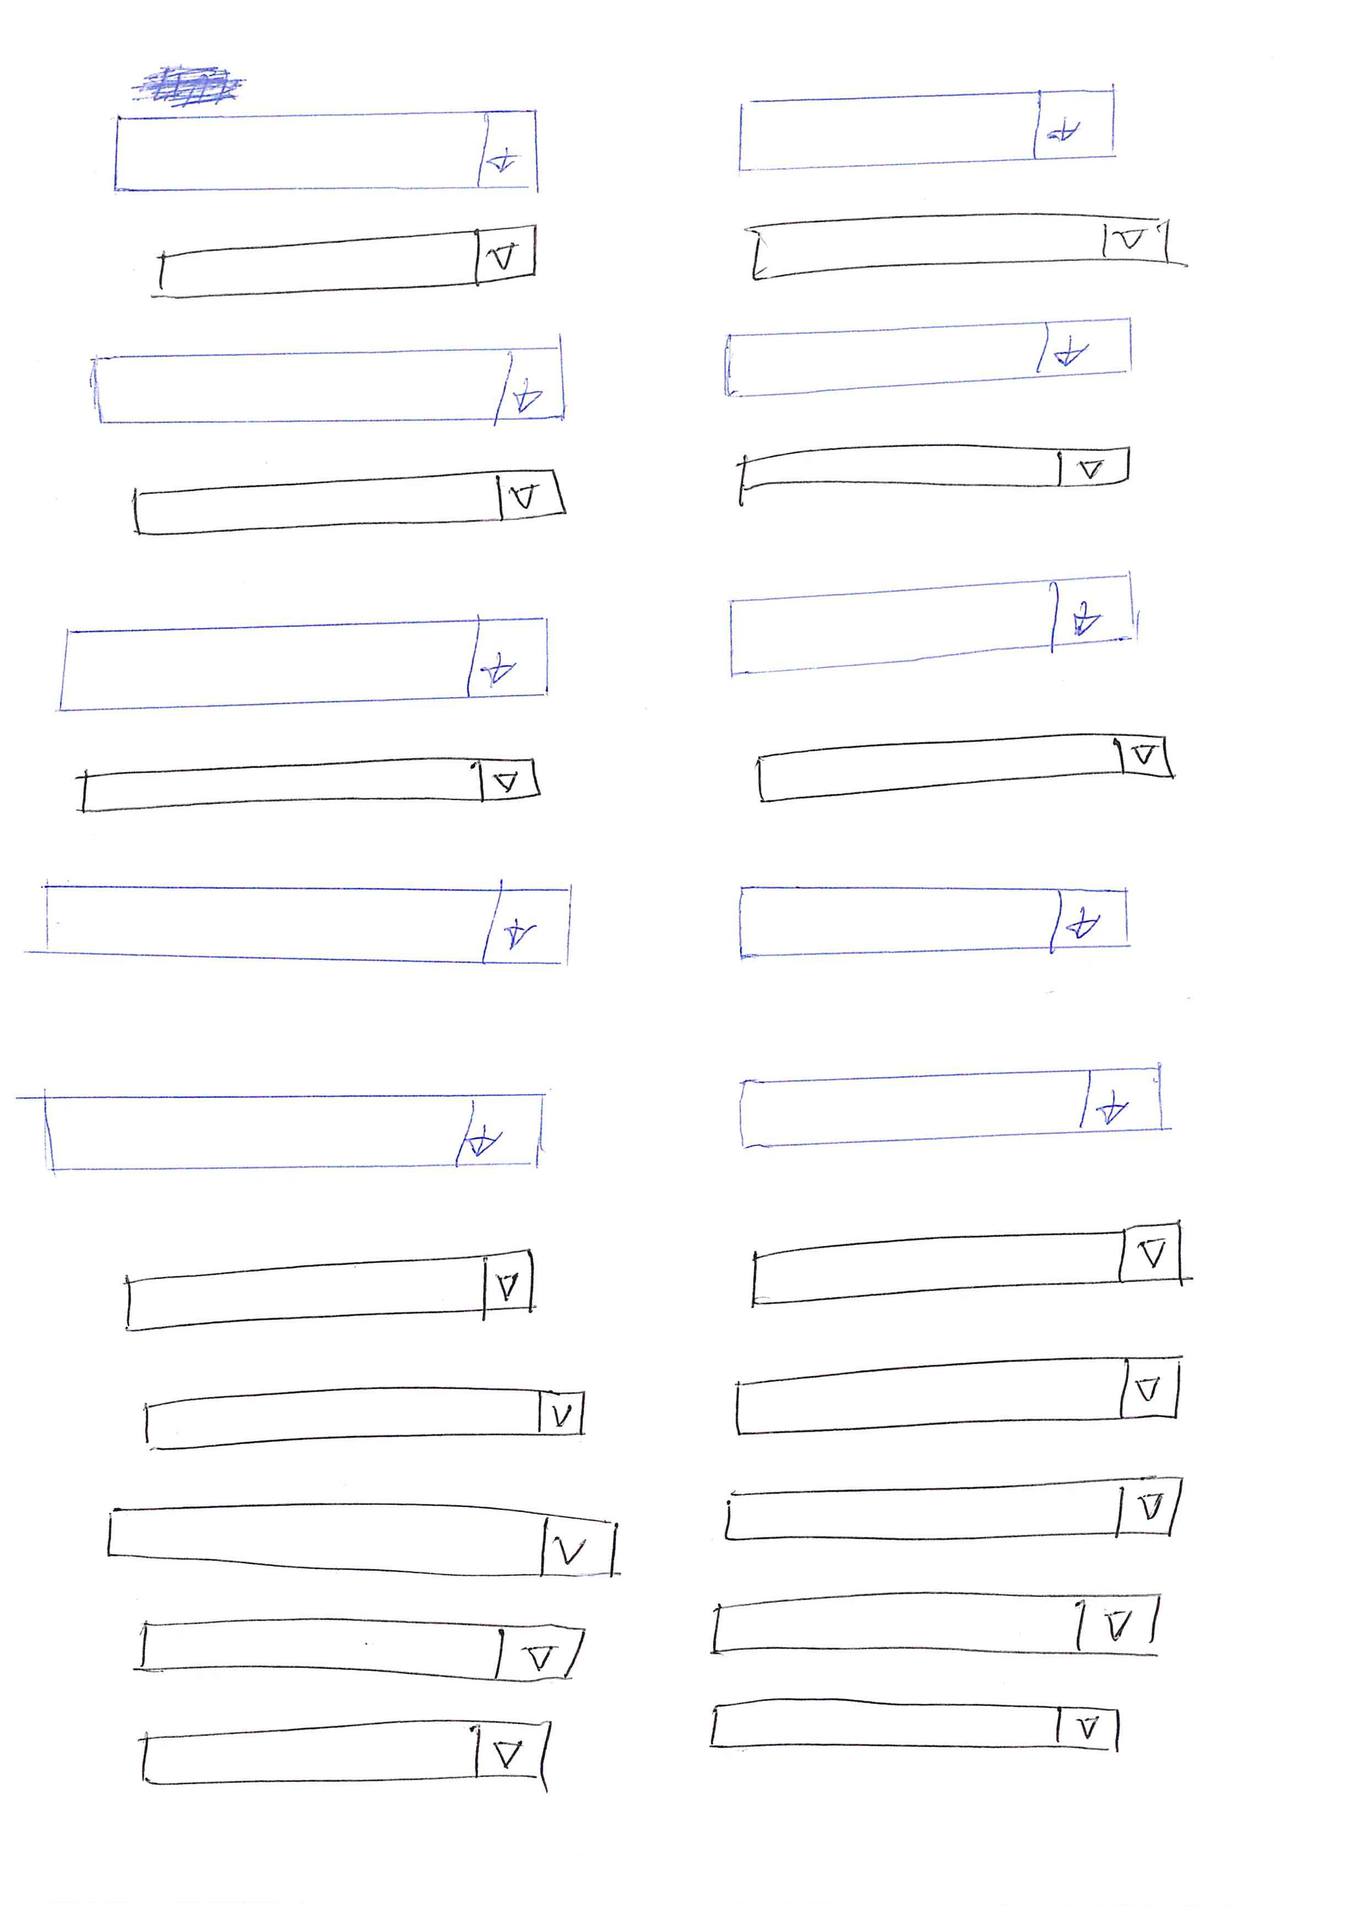Textbox: (56, 609, 551, 716), (38, 878, 580, 967), (721, 569, 1141, 682), (38, 1087, 548, 1177), (101, 1499, 621, 1581), (87, 342, 571, 429), (732, 1351, 1186, 1439), (721, 312, 1135, 407), (732, 1065, 1166, 1153), (747, 1221, 1186, 1309), (109, 111, 544, 197), (117, 1249, 540, 1337), (732, 86, 1121, 177), (139, 1379, 587, 1456), (149, 219, 540, 305), (129, 464, 569, 540), (732, 881, 1135, 961), (747, 211, 1177, 285), (718, 1474, 1186, 1542), (132, 1615, 588, 1684), (752, 732, 1175, 806), (707, 1591, 1166, 1657), (74, 753, 544, 818), (136, 1717, 551, 1788), (736, 442, 1135, 504), (707, 1696, 1127, 1752)
